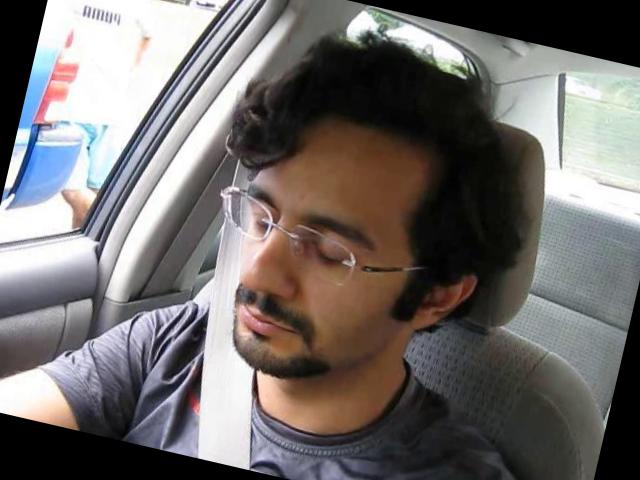eye_closed: (304, 237, 354, 277)
face: (205, 166, 422, 402)
